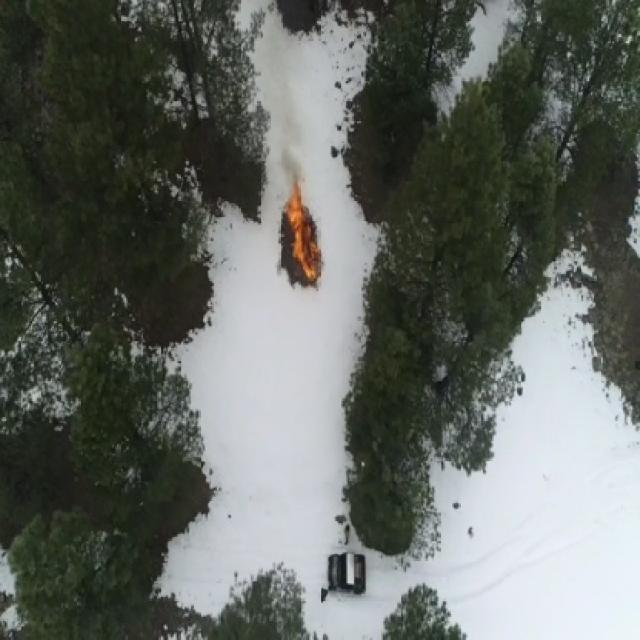Fire: (283, 177, 322, 285)
